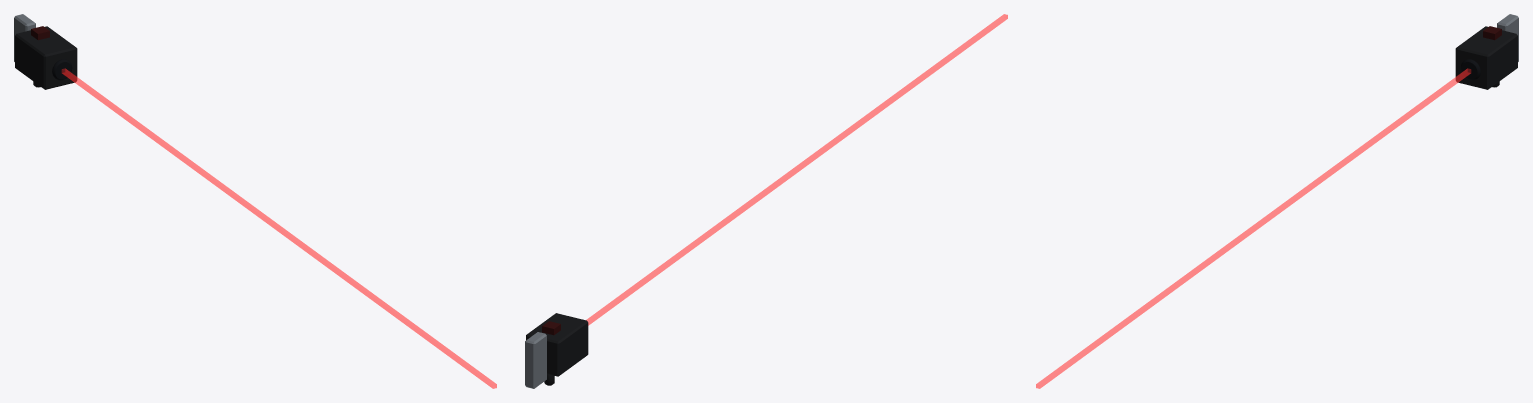
Rendered from photo_eye.glb.
The picture shows the model from 3 angles, left to right: view 1: azimuth 30°, elevation 25°; view 2: azimuth 150°, elevation 25°; view 3: azimuth 330°, elevation 25°; orthographic projection.
Parts seen in each view (by area): view 1: SensorBeam, Sensor_Static; view 2: SensorBeam, Sensor_Static; view 3: SensorBeam, Sensor_Static.
Boxes of the visible parts, bbox=[...] form: SensorBeam: bbox=[62, 68, 496, 388]; Sensor_Static: bbox=[14, 14, 77, 89]; SensorBeam: bbox=[586, 14, 1007, 325]; Sensor_Static: bbox=[525, 313, 588, 388]; SensorBeam: bbox=[1036, 68, 1470, 388]; Sensor_Static: bbox=[1455, 14, 1518, 89].
Bounding box in the file's own units: 0.045 × 0.0735 × 1.1.
